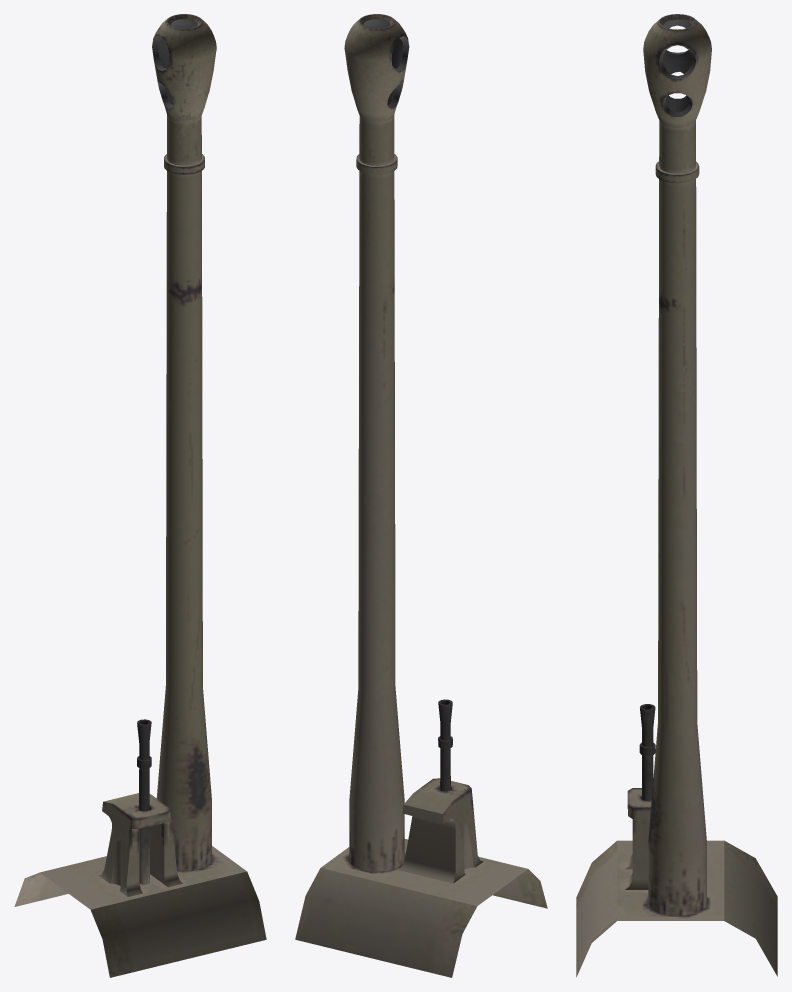
The model's file is Gun_08.glb.
The picture shows the model from 3 angles, left to right: view 1: azimuth 30°, elevation 25°; view 2: azimuth 150°, elevation 25°; view 3: azimuth 270°, elevation 25°; orthographic projection. The views are drawn at different scales.
Visible parts, largest first — view 1: set_0_group_0; view 2: set_0_group_0; view 3: set_0_group_0.
Boxes of the visible parts, x1,y1,x2,y2 form: set_0_group_0: [14, 14, 266, 977]; set_0_group_0: [295, 14, 547, 977]; set_0_group_0: [576, 14, 777, 977].
Size of the model in its own units: 0.5352 by 2.91 by 0.5654.
Materials: 1 (1 with a texture image).
